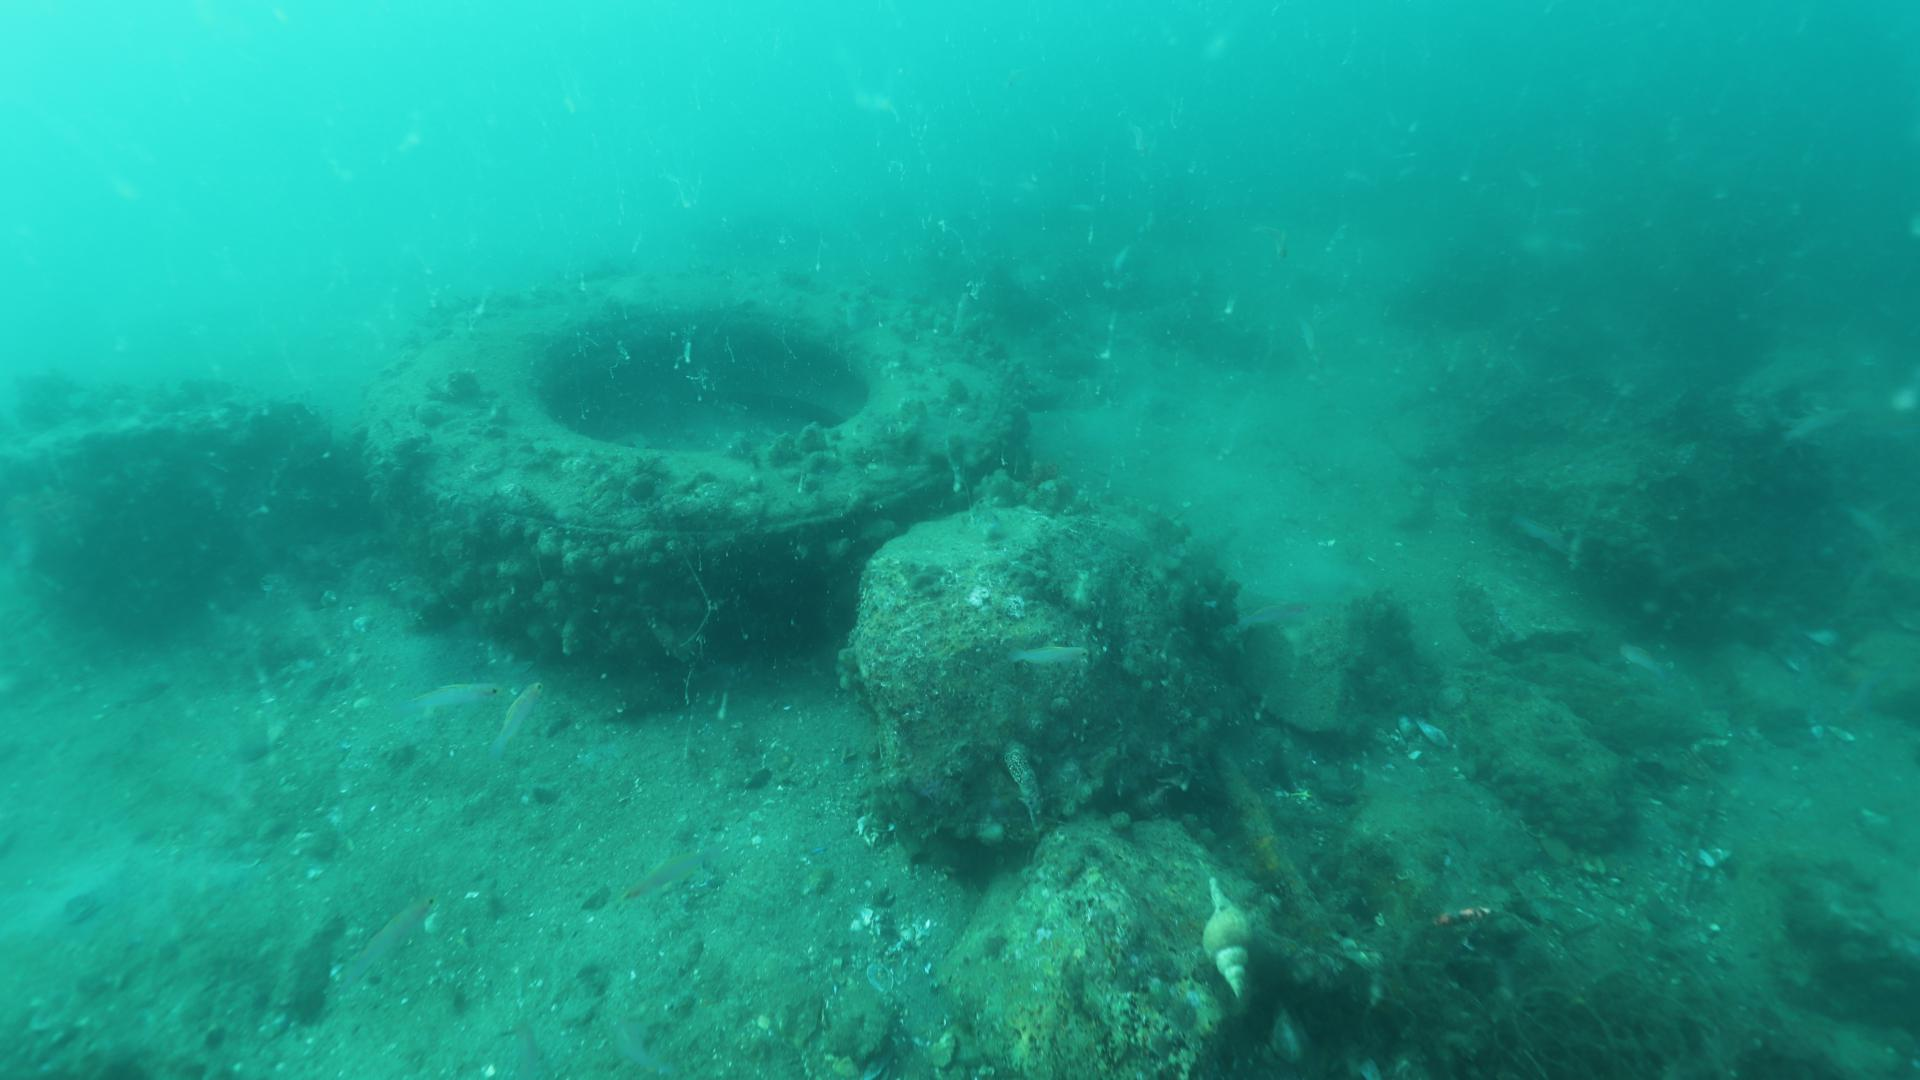tire: (360, 260, 1029, 649)
